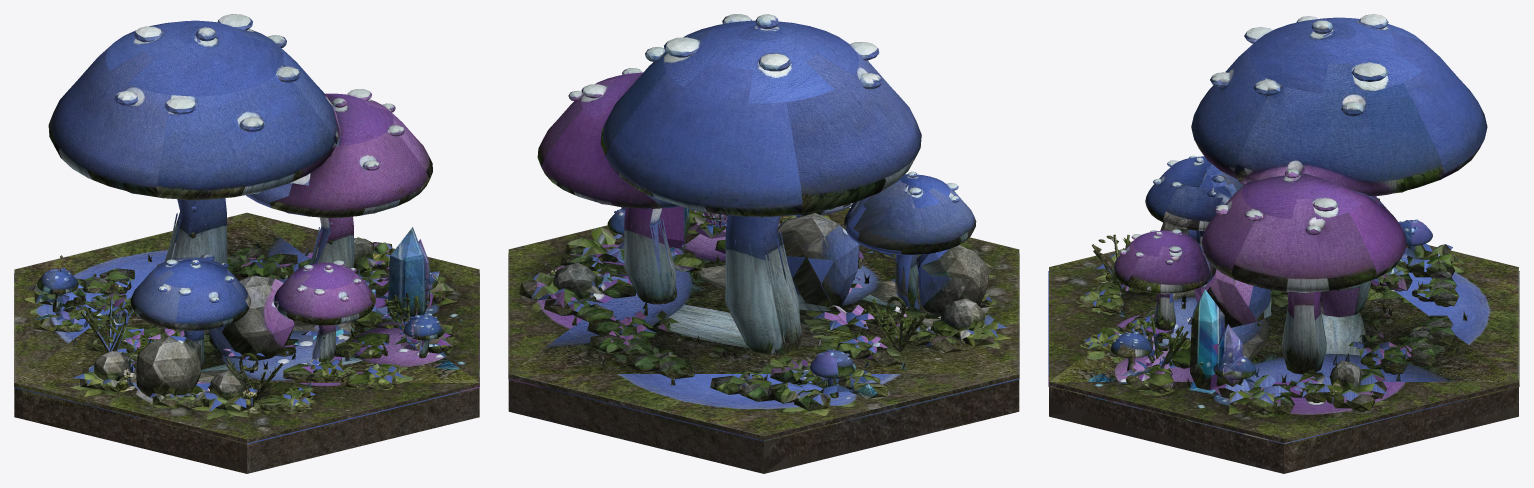
File: hex_glowing_mushrooms.glb
3 views of the same model, side by side, from view 1: azimuth 30°, elevation 25°; view 2: azimuth 150°, elevation 25°; view 3: azimuth 270°, elevation 25° (orthographic). The views are drawn at different scales.
Parts seen in each view (by area): view 1: Broad faceted mushroom cap.001, Standard hex meadow top.001, Broad faceted mushroom cap.003, Standard hex stone foundation.001, Broad faceted mushroom cap.004, Broad faceted mushroom cap.005, Angular mossy forest boulder.001, Standard hex earth layer.001, Angular mossy forest boulder.002, Curving luminous mushroom stem.001, Faceted magical crystal.001, Curving luminous mushroom stem.003 (+7 smaller); view 2: Broad faceted mushroom cap.001, Standard hex meadow top.001, Standard hex stone foundation.001, Curving luminous mushroom stem.001, Broad faceted mushroom cap.004, Broad faceted mushroom cap.003, Angular mossy forest boulder.001, Standard hex earth layer.001, Curving luminous mushroom stem.003, Angular mossy forest boulder.002, Curving luminous mushroom stem.004, Angular mossy forest boulder.004 (+13 smaller); view 3: Standard hex meadow top.001, Broad faceted mushroom cap.001, Broad faceted mushroom cap.003, Standard hex stone foundation.001, Broad faceted mushroom cap.005, Broad faceted mushroom cap.004, Standard hex earth layer.001, Curving luminous mushroom stem.003, Faceted magical crystal.001, Angular mossy forest boulder.001, Curving luminous mushroom stem.001, Faceted magical crystal.003 (+7 smaller).
Part boxes in pixels (box(x1,y1,x2,y2)): Broad faceted mushroom cap.001: box(48, 20, 340, 199); Standard hex meadow top.001: box(14, 212, 479, 443); Broad faceted mushroom cap.003: box(246, 93, 432, 217); Standard hex stone foundation.001: box(14, 395, 479, 473); Broad faceted mushroom cap.004: box(130, 257, 250, 330); Broad faceted mushroom cap.005: box(273, 262, 375, 325); Angular mossy forest boulder.001: box(209, 276, 294, 360); Standard hex earth layer.001: box(14, 388, 479, 451); Angular mossy forest boulder.002: box(136, 335, 200, 397); Curving luminous mushroom stem.001: box(164, 198, 227, 268); Faceted magical crystal.001: box(387, 227, 425, 321); Curving luminous mushroom stem.003: box(310, 216, 354, 268); Broad faceted mushroom cap.001: box(600, 20, 921, 216); Standard hex meadow top.001: box(508, 208, 1019, 440); Standard hex stone foundation.001: box(508, 387, 1019, 473); Curving luminous mushroom stem.001: box(725, 215, 801, 354); Broad faceted mushroom cap.004: box(843, 174, 976, 255); Broad faceted mushroom cap.003: box(537, 72, 680, 208); Angular mossy forest boulder.001: box(777, 213, 859, 311); Standard hex earth layer.001: box(508, 378, 1019, 449); Curving luminous mushroom stem.003: box(624, 207, 676, 304); Angular mossy forest boulder.002: box(916, 245, 988, 316); Curving luminous mushroom stem.004: box(895, 254, 925, 311); Angular mossy forest boulder.004: box(553, 263, 597, 300); Standard hex meadow top.001: box(1049, 245, 1518, 442); Broad faceted mushroom cap.001: box(1191, 17, 1487, 196); Broad faceted mushroom cap.003: box(1201, 173, 1406, 292); Standard hex stone foundation.001: box(1049, 394, 1518, 473); Broad faceted mushroom cap.005: box(1113, 230, 1216, 293); Broad faceted mushroom cap.004: box(1145, 156, 1243, 230); Standard hex earth layer.001: box(1049, 387, 1518, 451); Curving luminous mushroom stem.003: box(1281, 292, 1326, 374); Faceted magical crystal.001: box(1190, 289, 1224, 390); Angular mossy forest boulder.001: box(1194, 269, 1271, 327); Curving luminous mushroom stem.001: box(1320, 280, 1371, 317); Faceted magical crystal.003: box(1216, 324, 1243, 398).
Size of the model in its own units: 5.11 by 3.39 by 4.42.
Materials: 5 (5 with a texture image).
